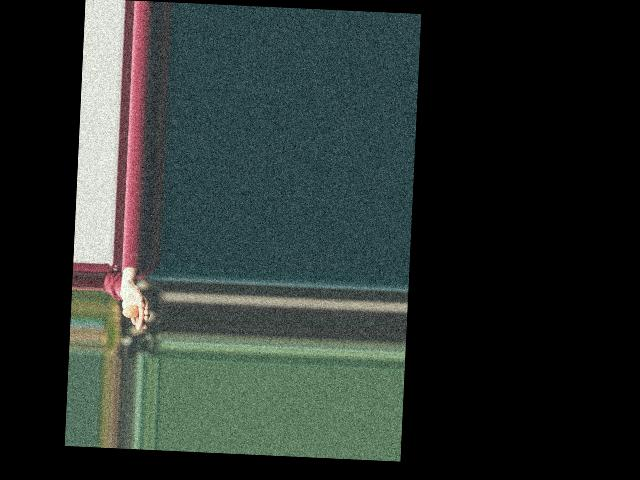egg: (122, 305, 139, 317)
